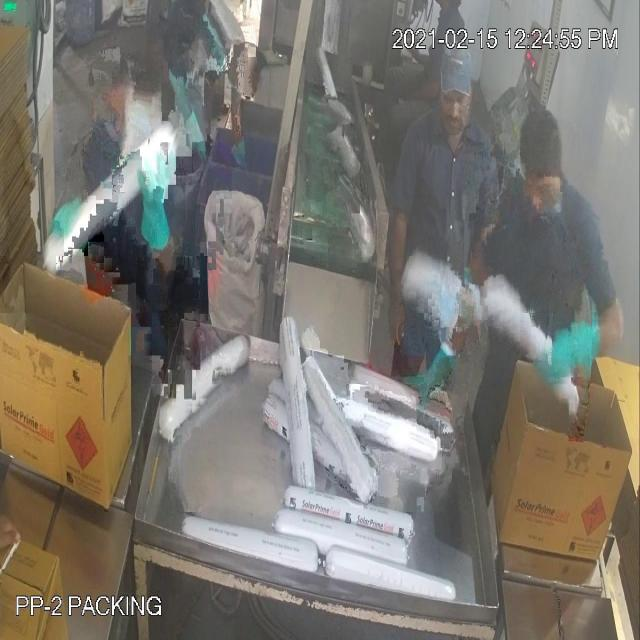Gloves: (39, 83, 579, 374)
